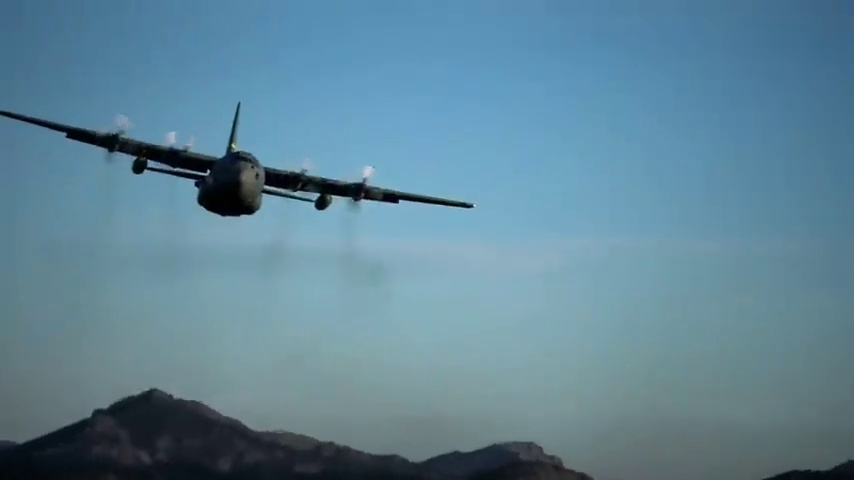military drone: (0, 99, 476, 216)
